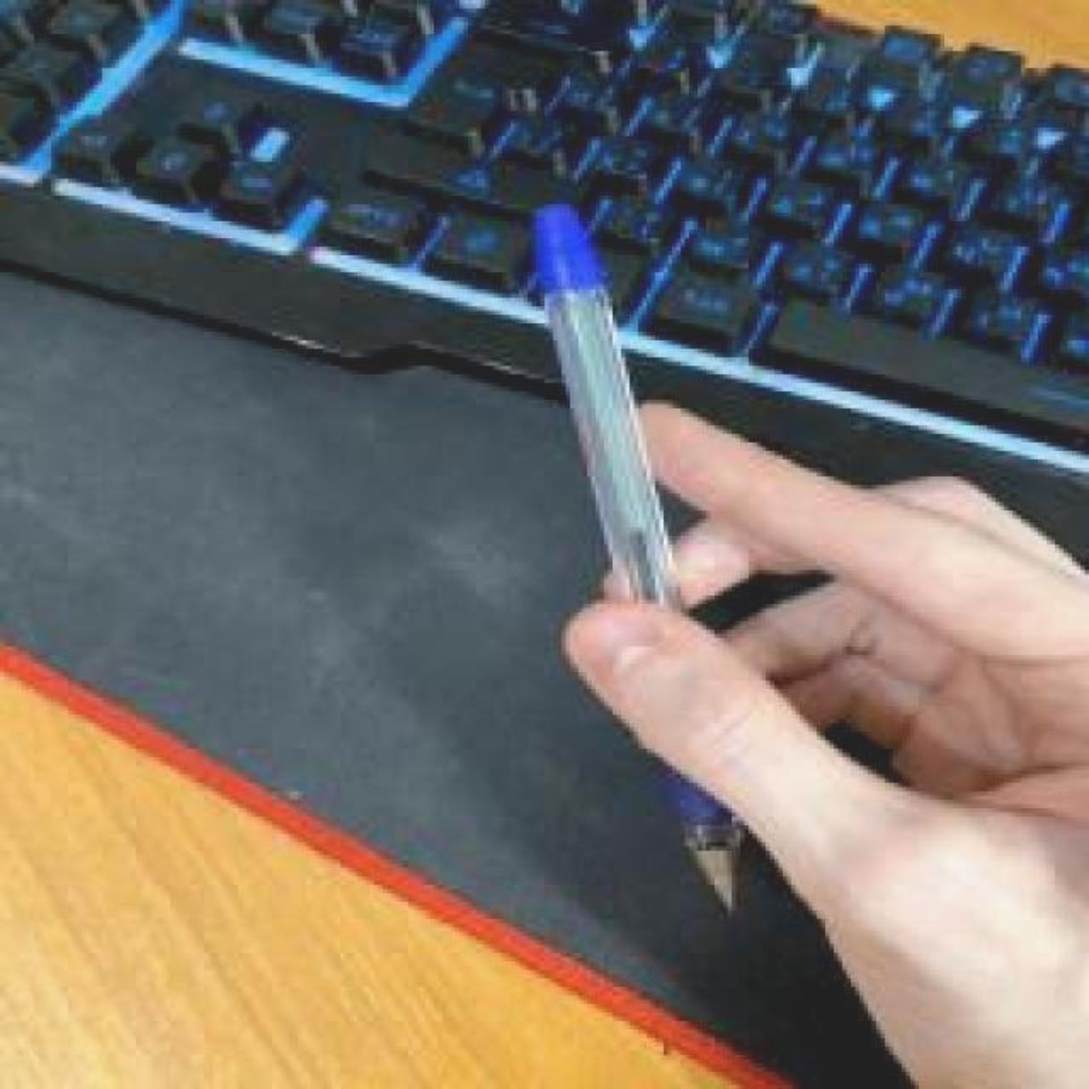pen: (524, 209, 745, 915)
